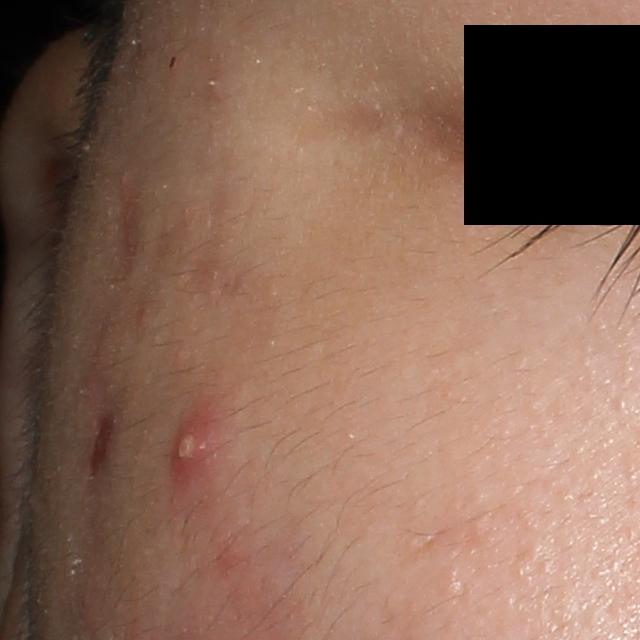pustule: (167, 407, 215, 471)
